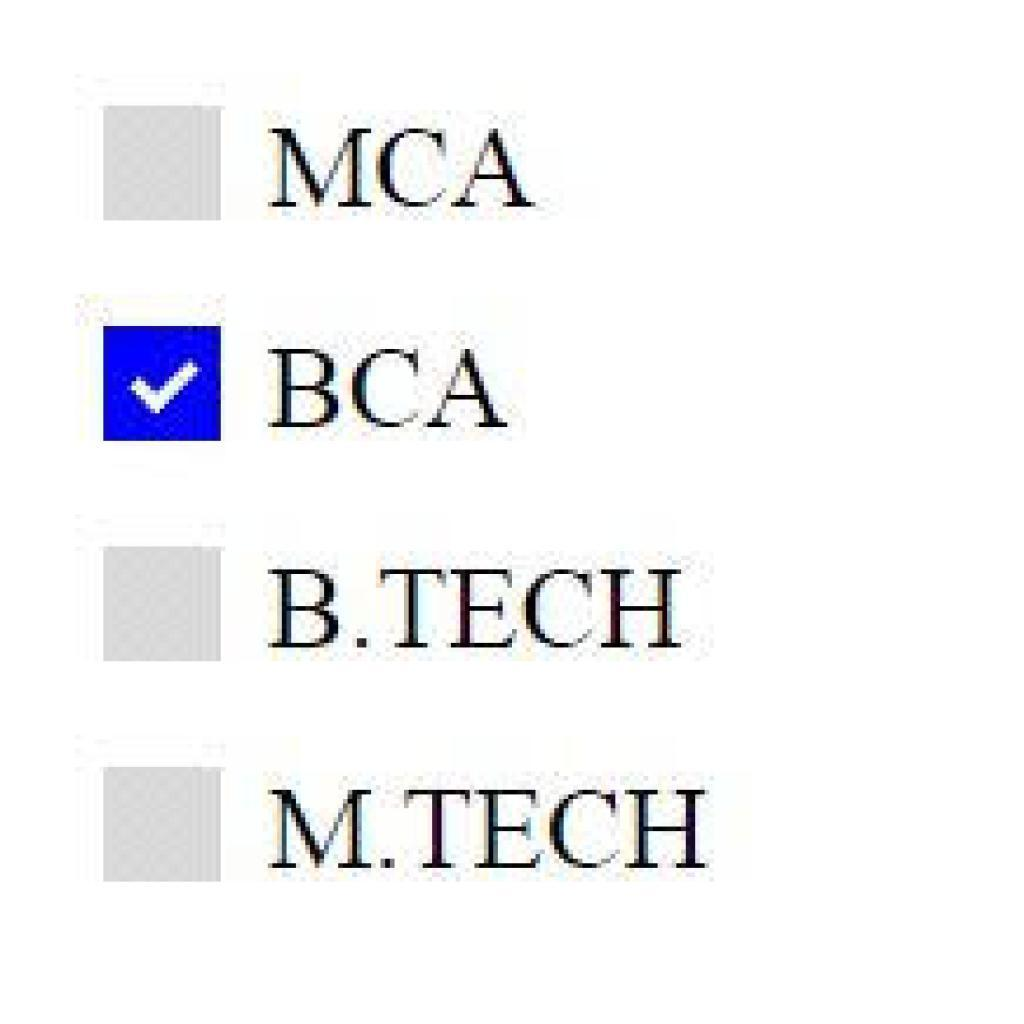checkbox: (102, 548, 225, 666), (102, 104, 221, 224), (101, 765, 220, 885), (103, 326, 222, 441)
